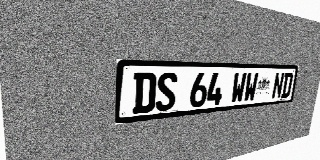4: (206, 72, 224, 106)
6: (189, 72, 209, 108)
D: (132, 72, 157, 114), (281, 73, 294, 98)
N: (271, 73, 285, 99)
S: (155, 72, 178, 112)
W: (230, 72, 247, 104), (243, 72, 259, 102)
